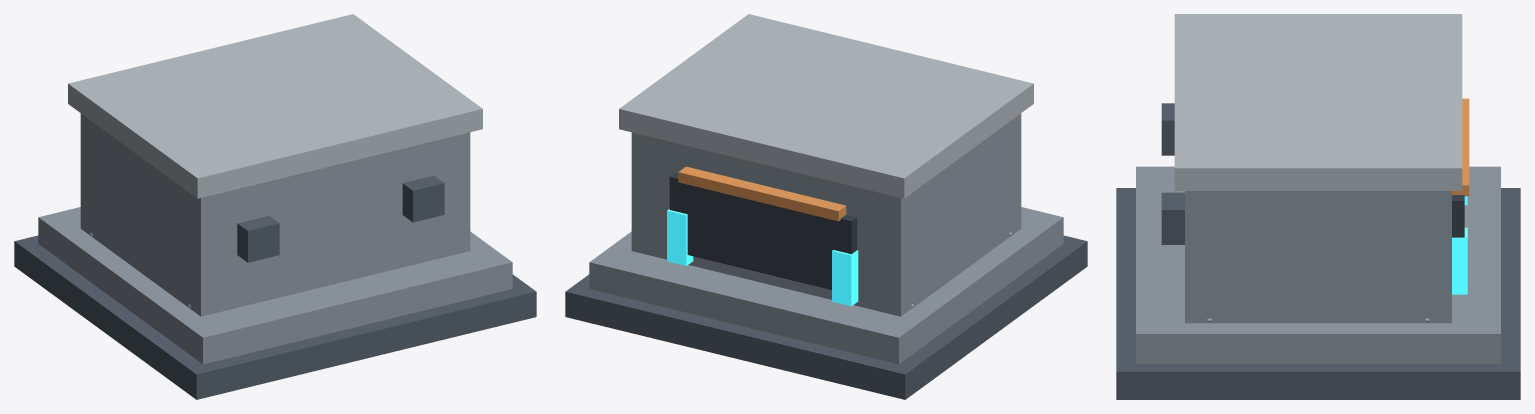
Rendered from barracks.glb.
The picture shows the model from 3 angles, left to right: view 1: azimuth 30°, elevation 25°; view 2: azimuth 150°, elevation 25°; view 3: azimuth 270°, elevation 25°; orthographic projection. The views are drawn at different scales.
Parts seen in each view (by area): view 1: detail_005, detail_002, detail_001, detail_000, detail_009, detail_007; view 2: detail_005, detail_002, detail_001, detail_000, detail_003, detail_004, detail_006, detail_008; view 3: detail_005, detail_002, detail_001, detail_000, detail_009, detail_008, detail_004, detail_007, detail_003.
Boxes of the visible parts, bbox=[...] form: detail_005: bbox=[68, 14, 482, 198]; detail_002: bbox=[80, 113, 470, 316]; detail_001: bbox=[38, 207, 512, 364]; detail_000: bbox=[14, 235, 536, 399]; detail_009: bbox=[402, 175, 444, 222]; detail_007: bbox=[237, 216, 279, 262]; detail_005: bbox=[619, 14, 1033, 198]; detail_002: bbox=[631, 113, 1021, 316]; detail_001: bbox=[589, 207, 1063, 364]; detail_000: bbox=[565, 235, 1087, 399]; detail_003: bbox=[669, 173, 857, 289]; detail_004: bbox=[678, 166, 846, 221]; detail_006: bbox=[832, 250, 858, 306]; detail_008: bbox=[667, 209, 693, 265]; detail_005: bbox=[1174, 14, 1462, 190]; detail_002: bbox=[1185, 191, 1451, 323]; detail_001: bbox=[1136, 166, 1500, 363]; detail_000: bbox=[1116, 188, 1520, 399]; detail_009: bbox=[1161, 192, 1184, 244]; detail_008: bbox=[1452, 227, 1467, 294]; detail_004: bbox=[1452, 98, 1469, 196]; detail_007: bbox=[1161, 103, 1174, 155]; detail_003: bbox=[1452, 195, 1464, 237].
Size of the model in its own units: 2.8 by 1.54 by 2.6.
